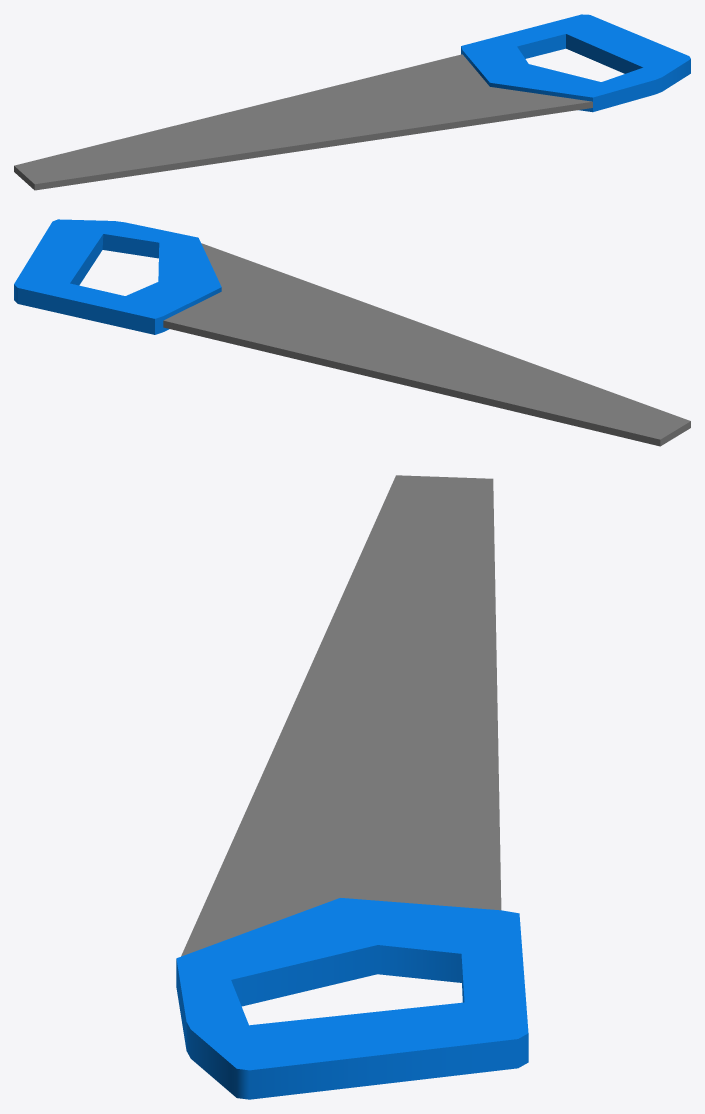
Rendered from Handsaw.fbx.
3 views of the same model, one above another, from view 1: azimuth 30°, elevation 25°; view 2: azimuth 150°, elevation 25°; view 3: azimuth 270°, elevation 25° (orthographic). The views are drawn at different scales.
Visible parts, largest first — view 1: Saw; view 2: Saw; view 3: Saw.
Part boxes in pixels (box(x1,y1,x2,y2)): Saw: box(14, 14, 690, 190); Saw: box(14, 219, 690, 446); Saw: box(176, 475, 528, 1099).
Size of the model in its own units: 2604 by 59.02 by 642.
Materials: 1 (1 with a texture image).
